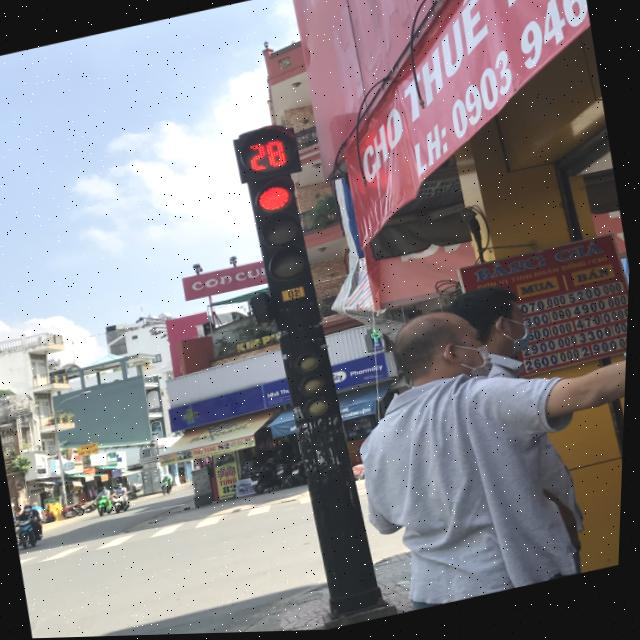Red: (241, 169, 323, 296)
